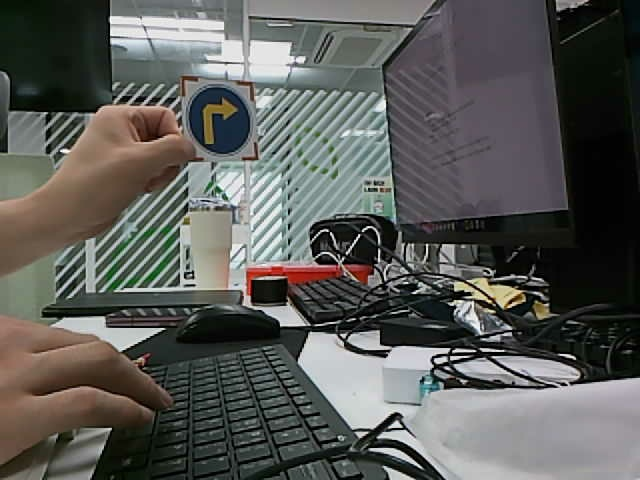right: (186, 85, 256, 157)
